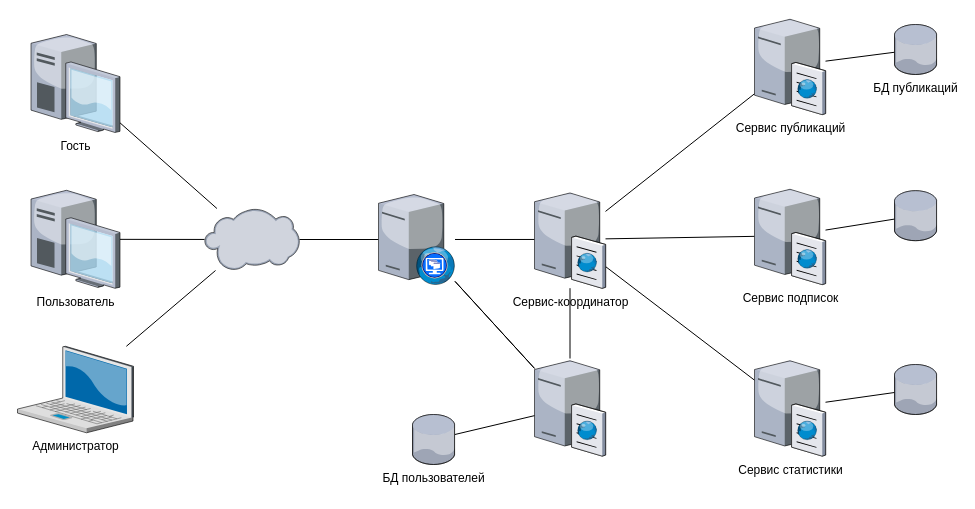
Image size: 975x509. Some labels were removed from this diagram. The shapes that lost their labels are listed below. From the top down, each one's box as (x1, y1, x2, y2) in pixels, then its label:
(894, 190, 936, 240): БД подписок
(204, 208, 299, 270): Интернет
(378, 194, 454, 284): Фронтенд
(534, 358, 605, 456): Сервис регистрации и авторизации
(894, 364, 936, 414): БД статистики
